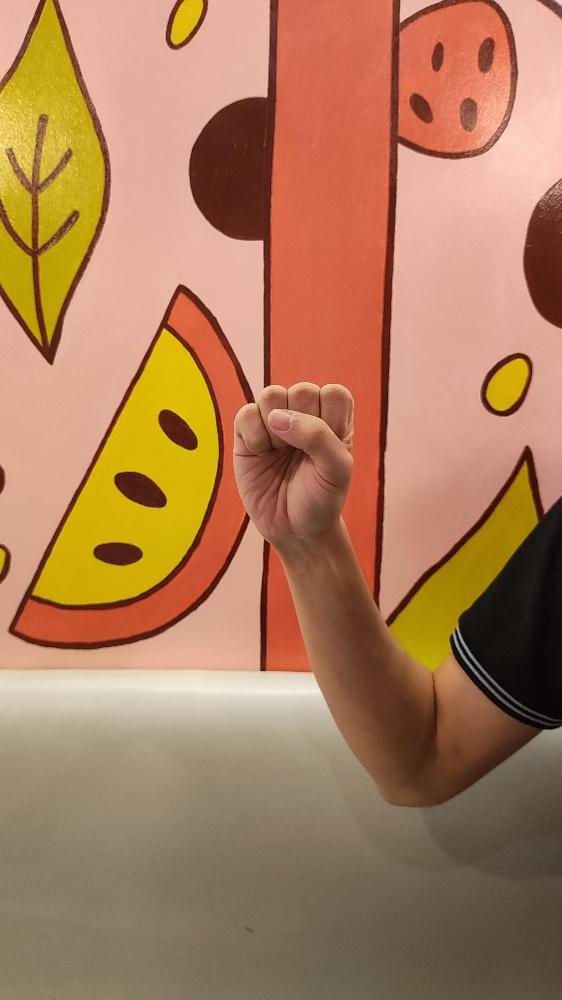s: (231, 380, 356, 544)
